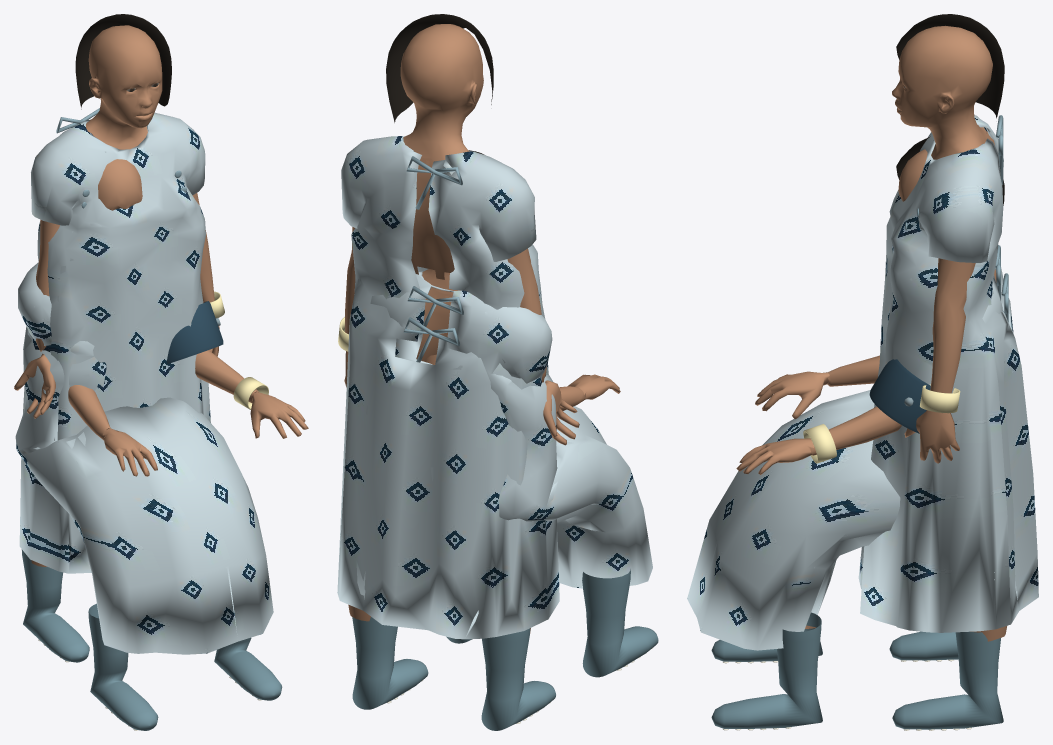
The model's file is patient-01-middle.glb.
The picture shows the model from 3 angles, left to right: view 1: azimuth 30°, elevation 25°; view 2: azimuth 150°, elevation 25°; view 3: azimuth 270°, elevation 25°; orthographic projection. The views are drawn at different scales.
Parts seen in each view (by area): view 1: head.002, head.004, Blood pressure cuff.002, ID wristband.004; view 2: head.002, head.004; view 3: head.002, head.004, Blood pressure cuff.002, ID wristband.002, ID wristband.004.
Boxes of the visible parts, x1,y1,x2,y2 form: head.002: (14,14,219,662); head.004: (15,159,308,730); Blood pressure cuff.002: (166,301,223,363); ID wristband.004: (233,377,268,409); head.002: (337,14,579,730); head.004: (370,150,658,677); head.002: (858,14,1038,730); head.004: (687,136,1004,730); Blood pressure cuff.002: (869,359,930,433); ID wristband.002: (920,384,960,413); ID wristband.004: (803,424,836,463).
Size of the model in its own units: 0.4626 by 1.34 by 0.6242.
Materials: 9 (1 with a texture image).
